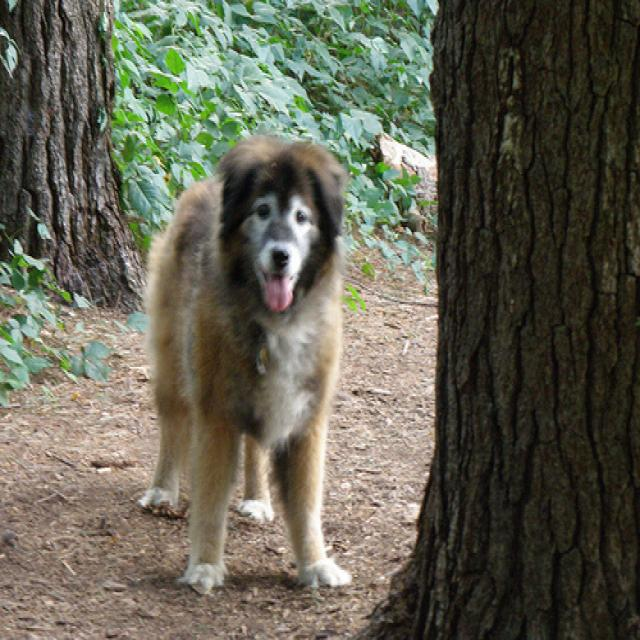dog: (218, 133, 343, 307)
